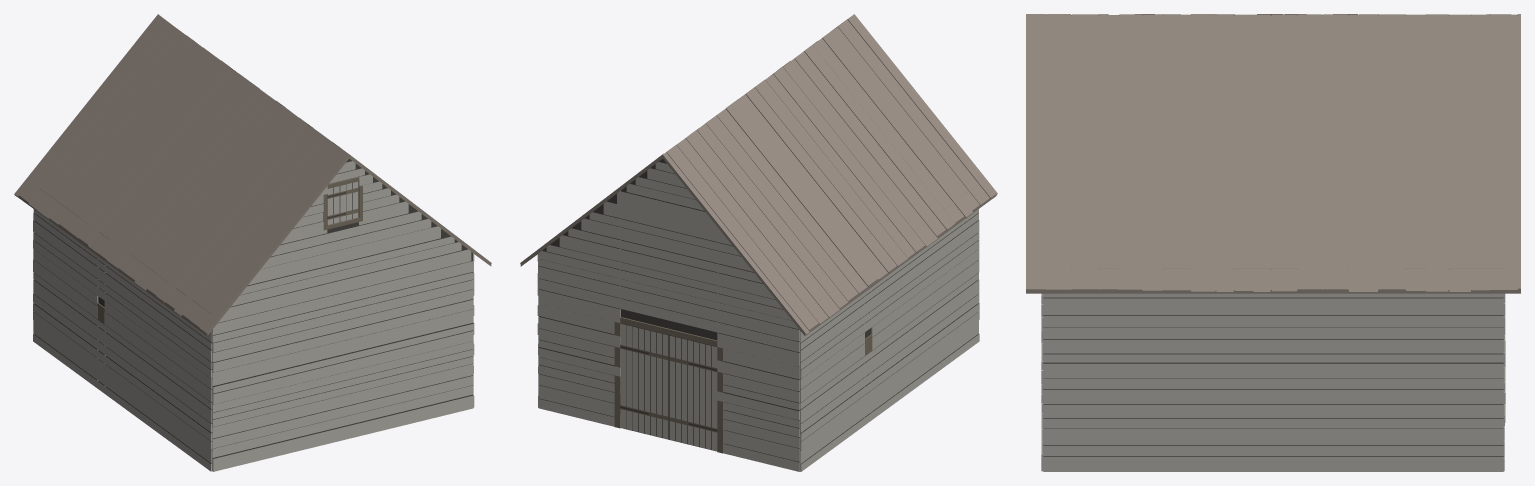
File: recon_1835_north_a2_094__inferred_1835.glb
3 renders of one model, left to right at view 1: azimuth 30°, elevation 25°; view 2: azimuth 150°, elevation 25°; view 3: azimuth 270°, elevation 25°, orthographic. The views are drawn at different scales.
Visible parts, largest first — view 1: recon_1835_north_a2_094__inferred_1835; view 2: recon_1835_north_a2_094__inferred_1835; view 3: recon_1835_north_a2_094__inferred_1835.
Part boxes in pixels (x1,y1,x2,y2): recon_1835_north_a2_094__inferred_1835: [14, 14, 491, 471]; recon_1835_north_a2_094__inferred_1835: [520, 14, 997, 471]; recon_1835_north_a2_094__inferred_1835: [1026, 14, 1520, 471].
Size of the model in its own units: 8.57 by 8.28 by 9.9.
